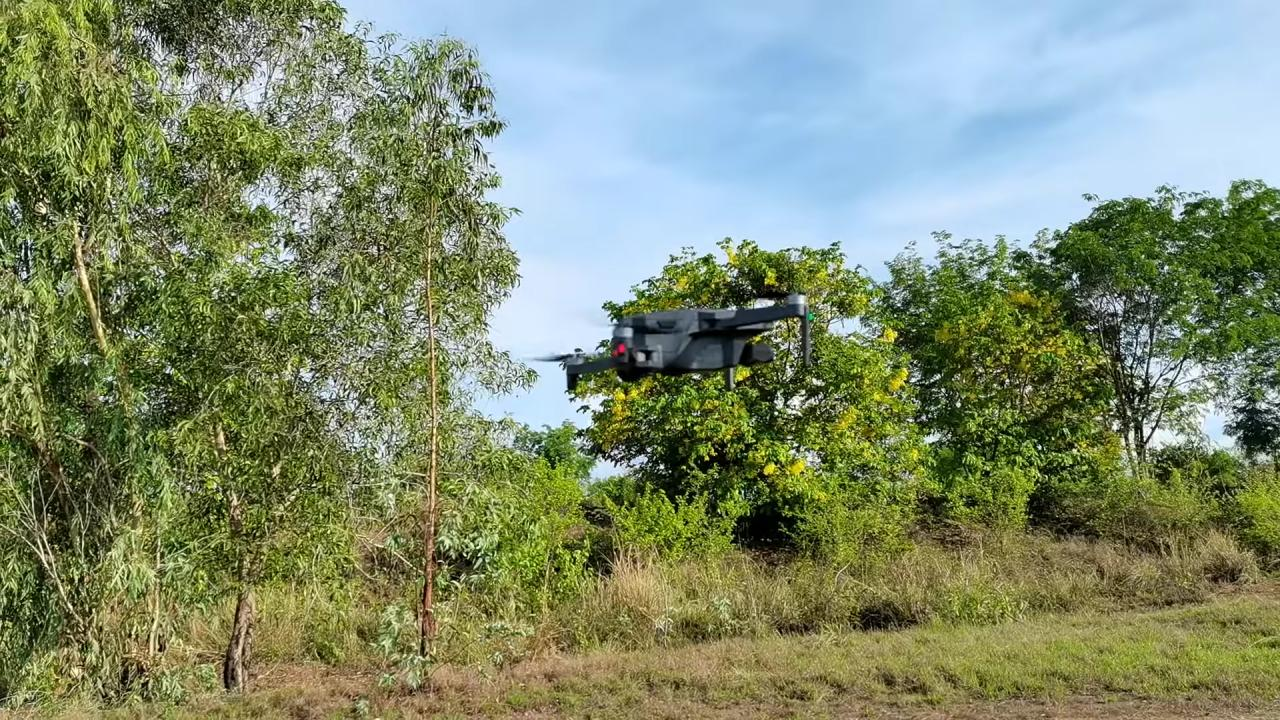Drone: (509, 266, 848, 406)
